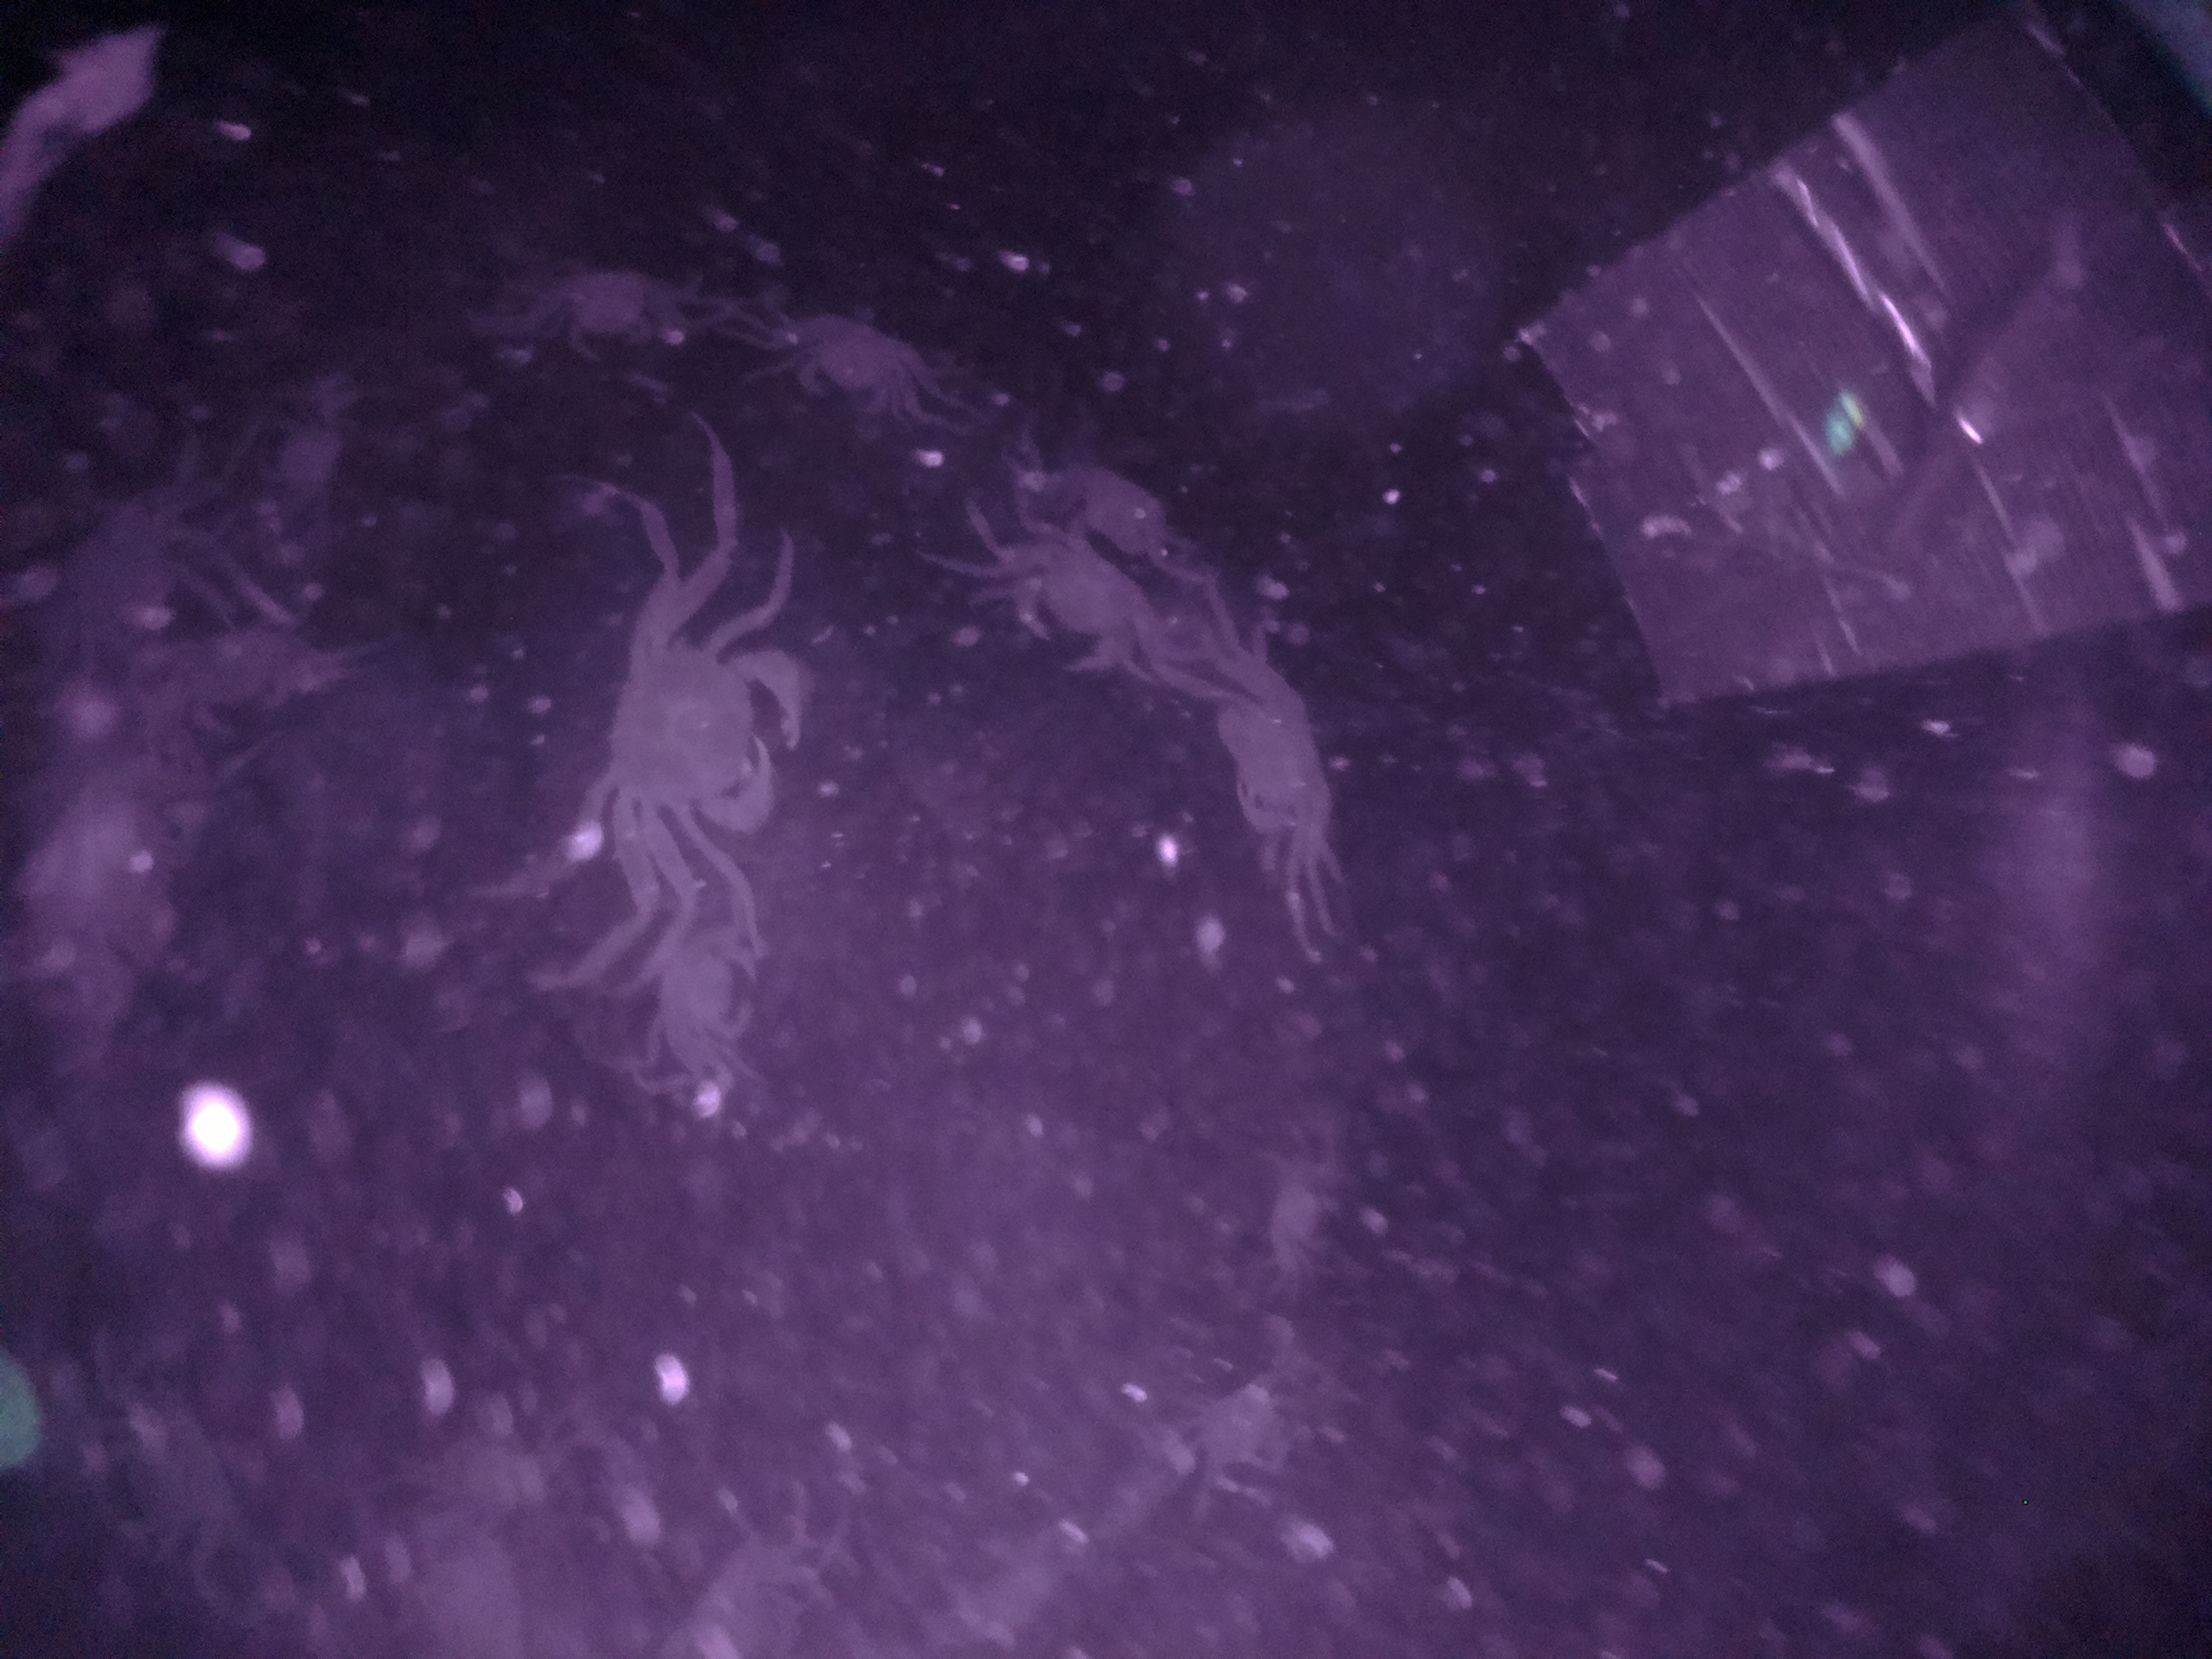Crab: (596, 610, 817, 864), (982, 523, 1162, 687), (1212, 653, 1338, 854), (639, 917, 766, 1065), (768, 314, 935, 425)
